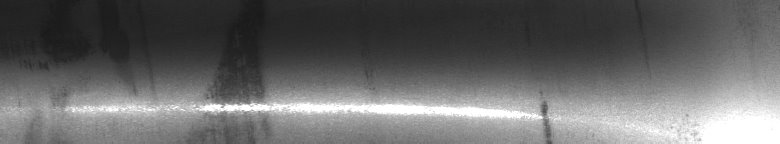ke: (29, 64, 561, 136)
